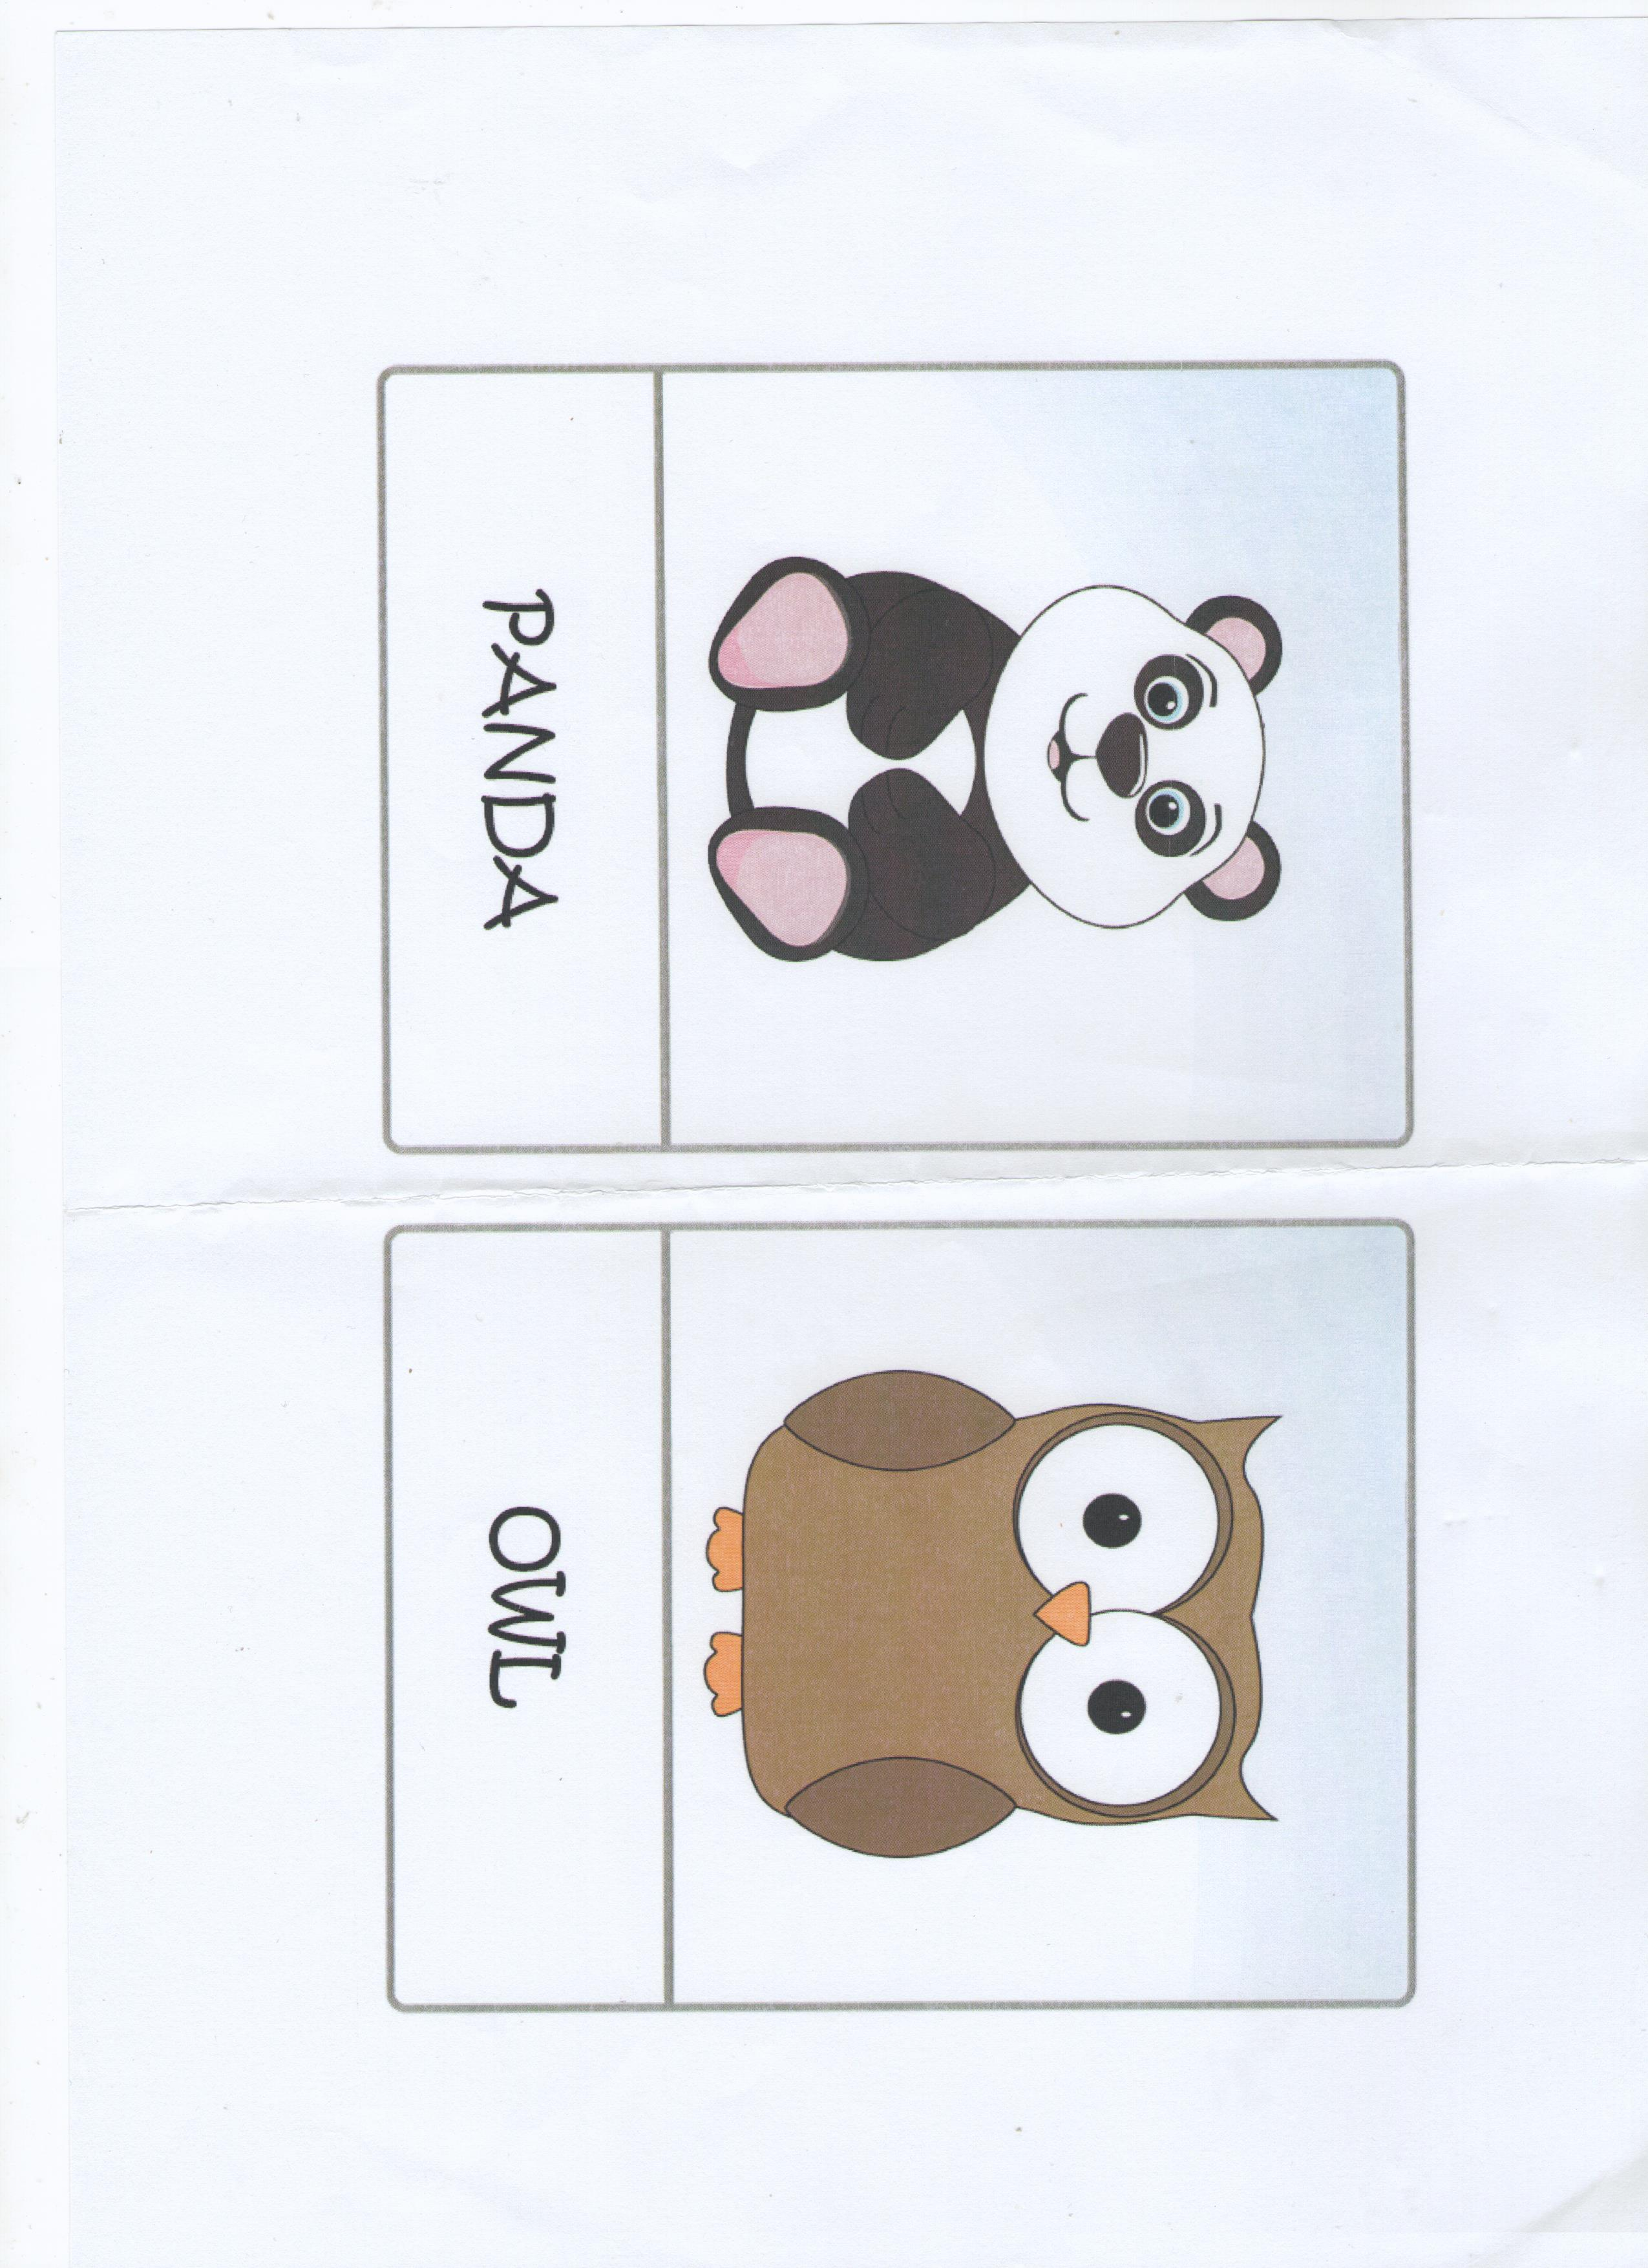gufo: (405, 1246, 1391, 1938)
panda: (400, 394, 1382, 1115)
